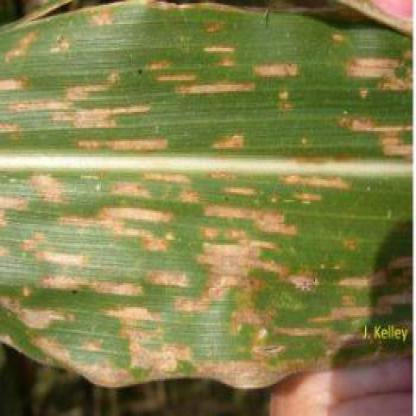Corn Gray leaf spot: (10, 6, 406, 388)
